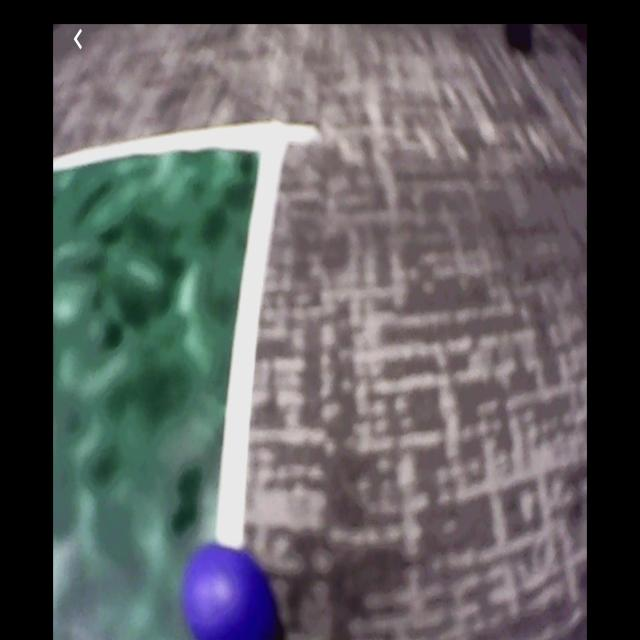ball: (182, 544, 272, 640)
